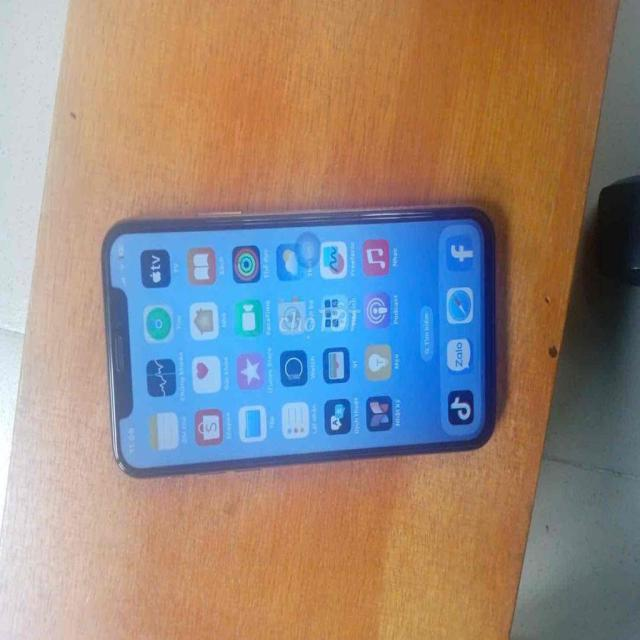gen_x_xs: (89, 201, 505, 483)
